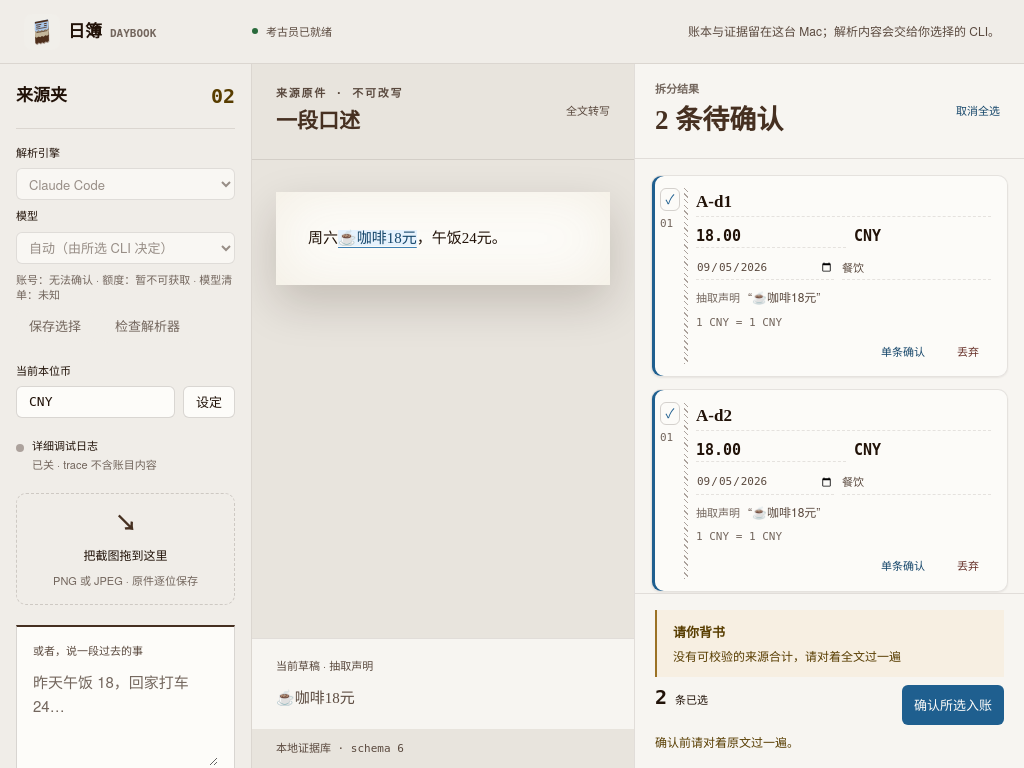
Test case: 保存成功后的旧回调不覆盖后来输入，也不抢回来源焦点
Replace the text in the 1st field showing "A-d1" with "第一次编辑" at [844, 202], box x1=696 y1=188 x2=991 y2=217
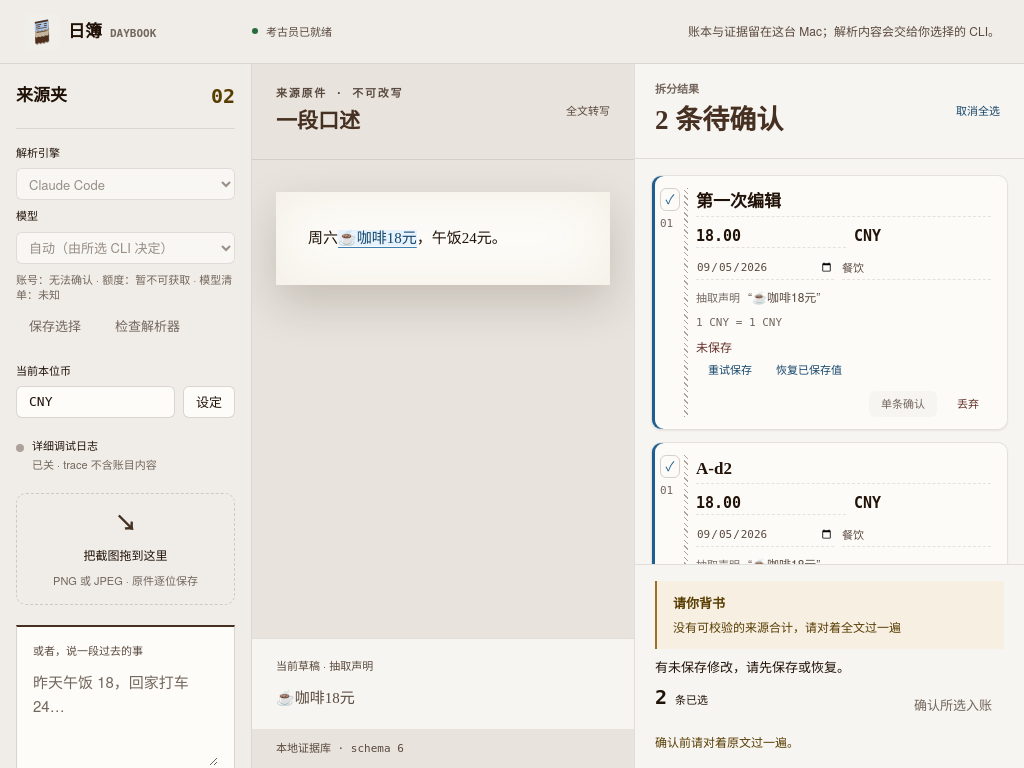
Replace the text in the 1st field showing "A-d1" with "后来编辑" at [844, 202], box x1=696 y1=188 x2=991 y2=217
(page scrolled)
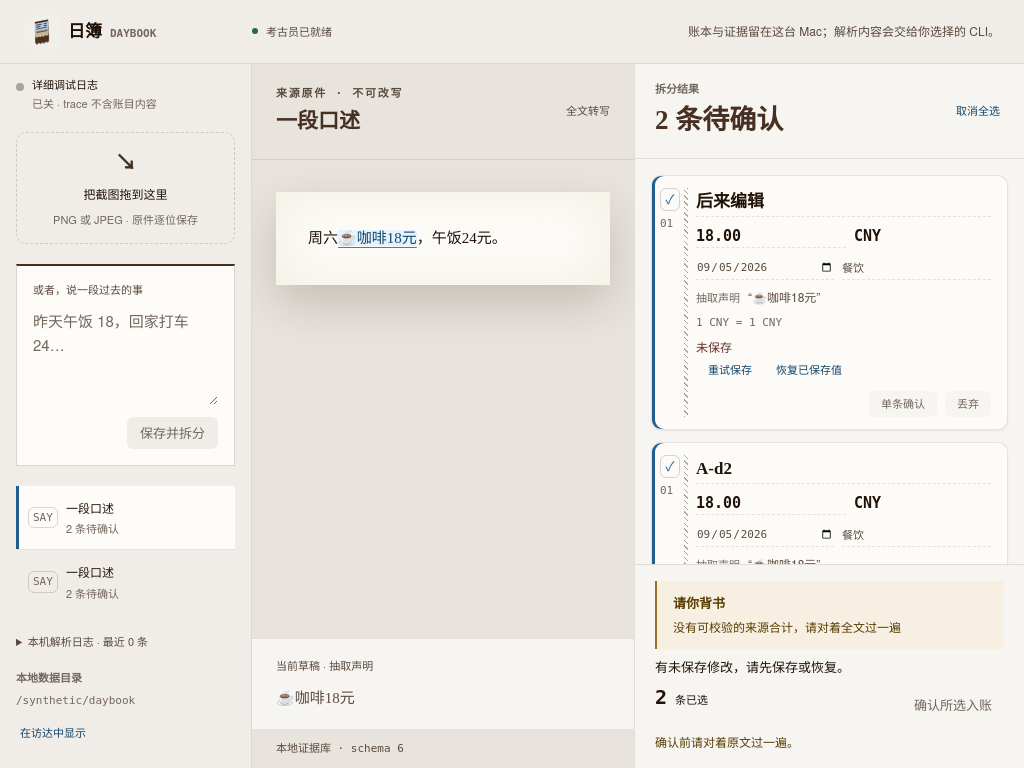
Click the 2nd button "SAY 一段口述 2 条待确认" at [126, 582], box x1=16 y1=550 x2=235 y2=614
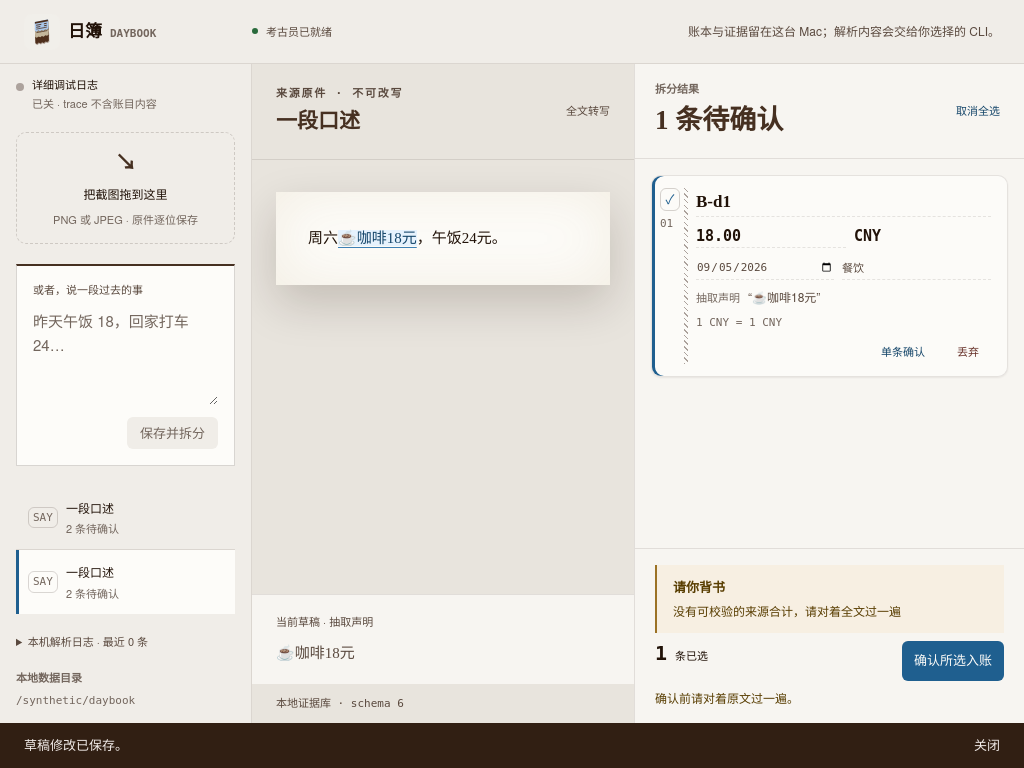
Expected: the field showing "B-d1" is shown, x1=696 y1=188 x2=991 y2=217
Click the 1st button "SAY 一段口述 2 条待确认" at [126, 518], box x1=16 y1=486 x2=235 y2=549
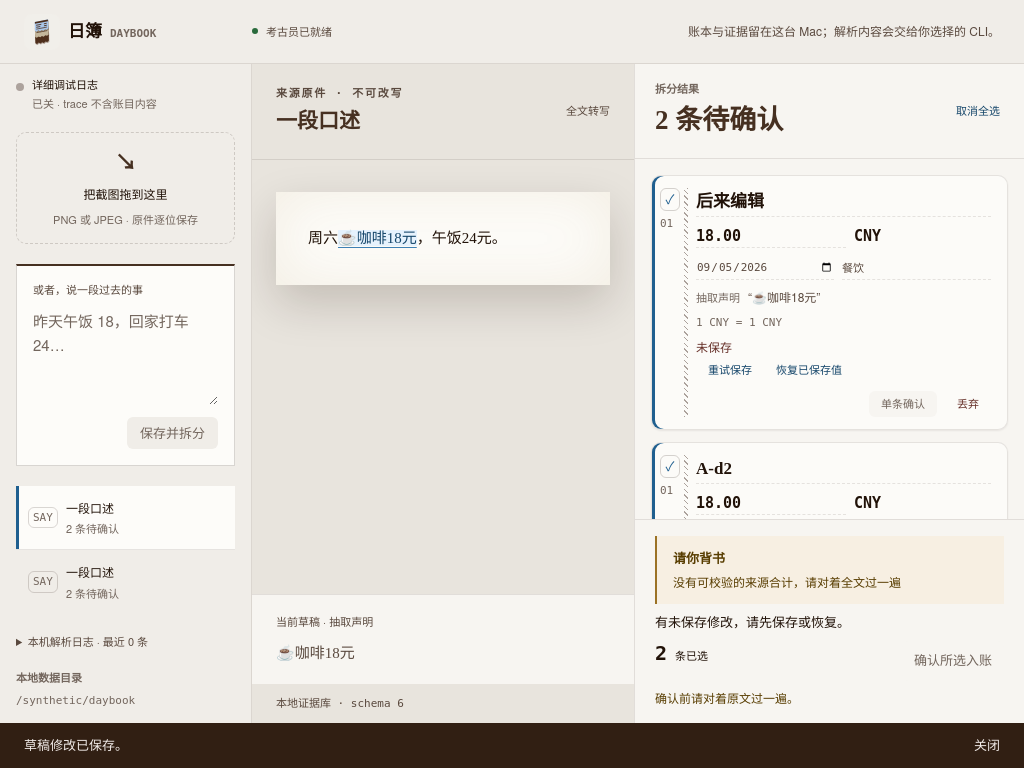
Expected: the 1st field showing "后来编辑" is shown, x1=696 y1=188 x2=991 y2=217
Expected: the button "确认所选入账" is disabled, x1=902 y1=641 x2=1004 y2=681
